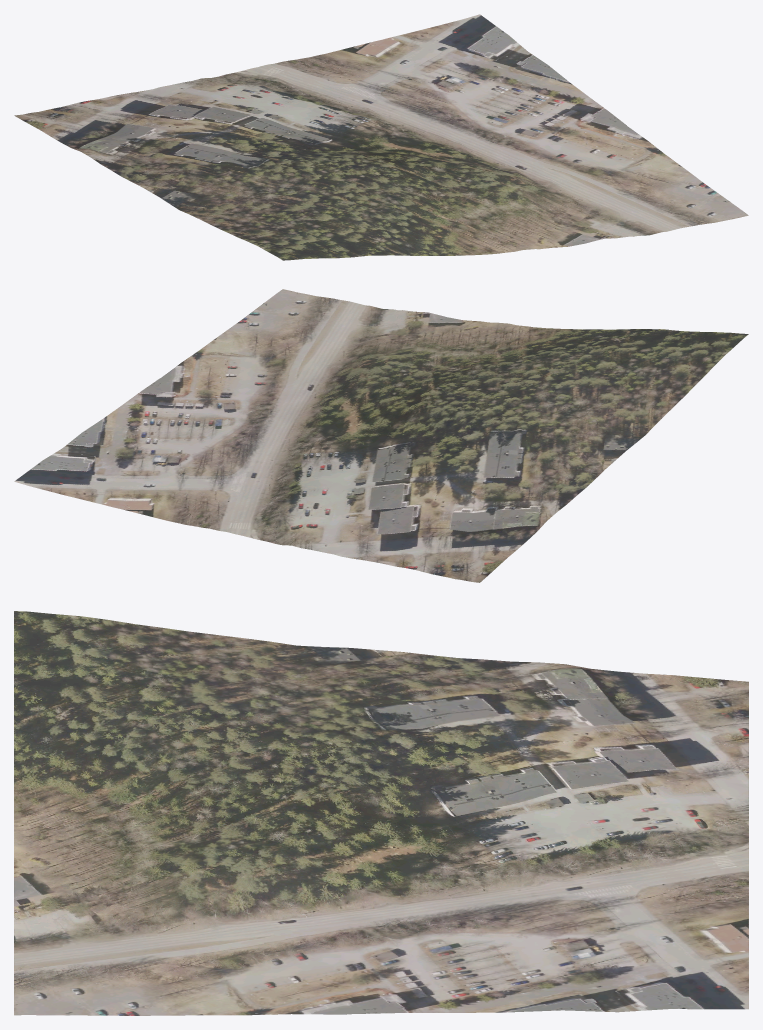
Rendered from CM_Terrain_24492097_6817336.fbx.
3 views of the same model, one above another, from view 1: azimuth 30°, elevation 25°; view 2: azimuth 150°, elevation 25°; view 3: azimuth 270°, elevation 25° (orthographic). The views are drawn at different scales.
Parts seen in each view (by area): view 1: CM_Terrain_24492097_6817336_LOD0; view 2: CM_Terrain_24492097_6817336_LOD0; view 3: CM_Terrain_24492097_6817336_LOD0.
Boxes of the visible parts, bbox=[...] form: CM_Terrain_24492097_6817336_LOD0: bbox=[14, 14, 748, 260]; CM_Terrain_24492097_6817336_LOD0: bbox=[14, 289, 748, 582]; CM_Terrain_24492097_6817336_LOD0: bbox=[14, 611, 748, 1015].
Size of what is drawn, in the model's own units: 205 by 29.01 by 205.
